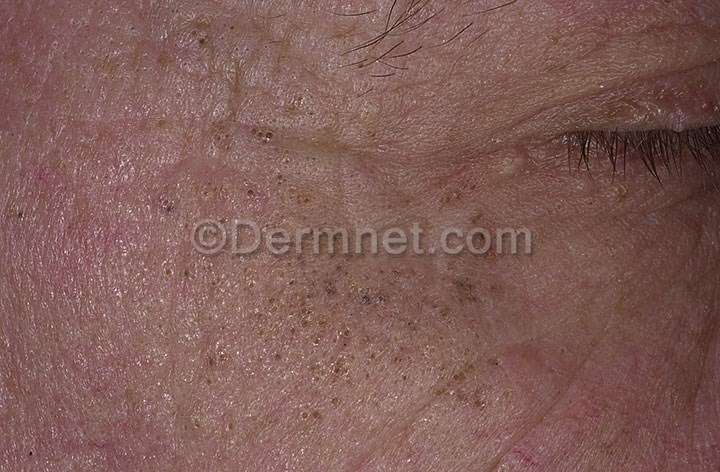Melasma: (135, 269, 479, 468), (109, 0, 363, 209)
